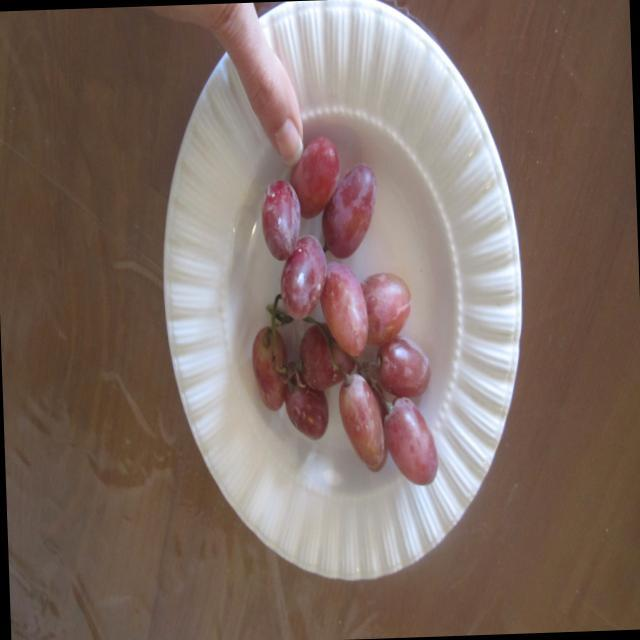Finger: (242, 32, 308, 161)
Grapes: (240, 155, 450, 494)
